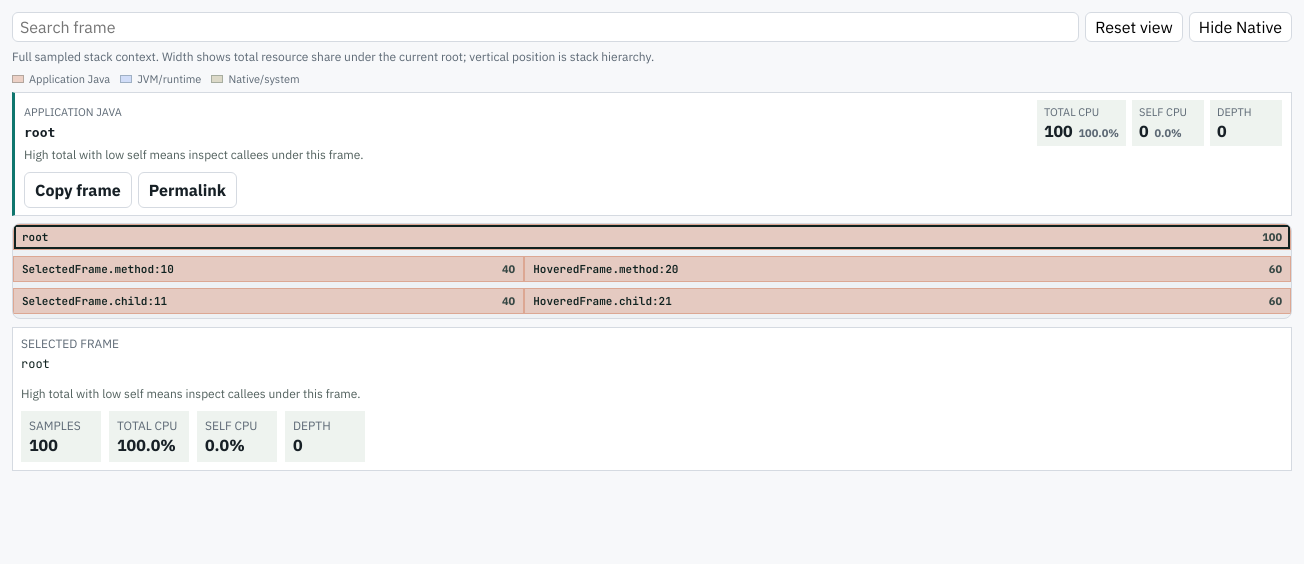
Scenario: focuses the frame you click
Click the button "HoveredFrame.method:20 60" at (606, 269), box 524,256 -> 1291,282
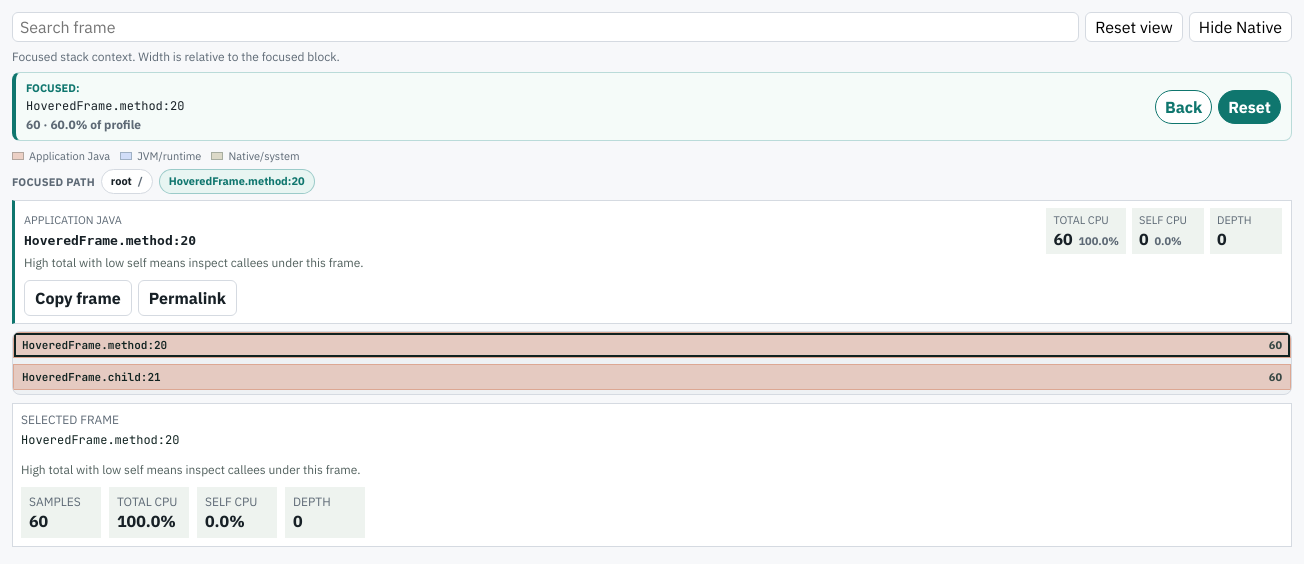
Check: the element named "Focused flamegraph state" shows "HoveredFrame.method:20", box 26,98 -> 184,114
Check: the navigation bar named "Focused flamegraph path" shows "HoveredFrame.method:20", box 159,169 -> 315,194
